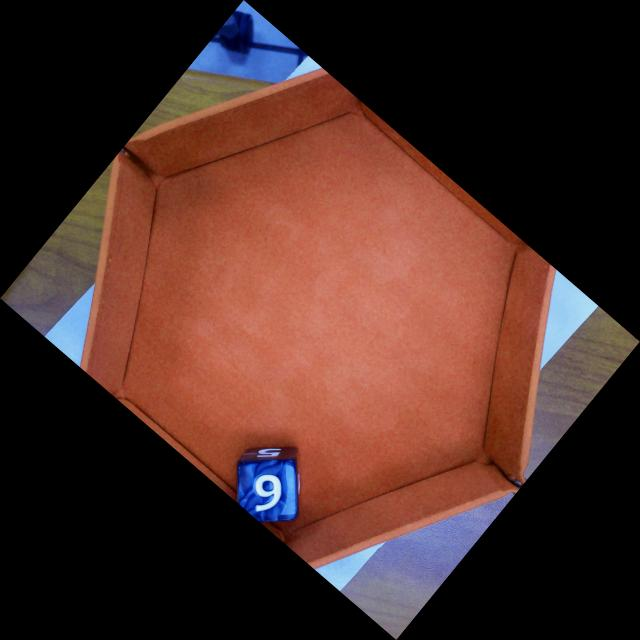dice: (237, 461, 297, 517)
